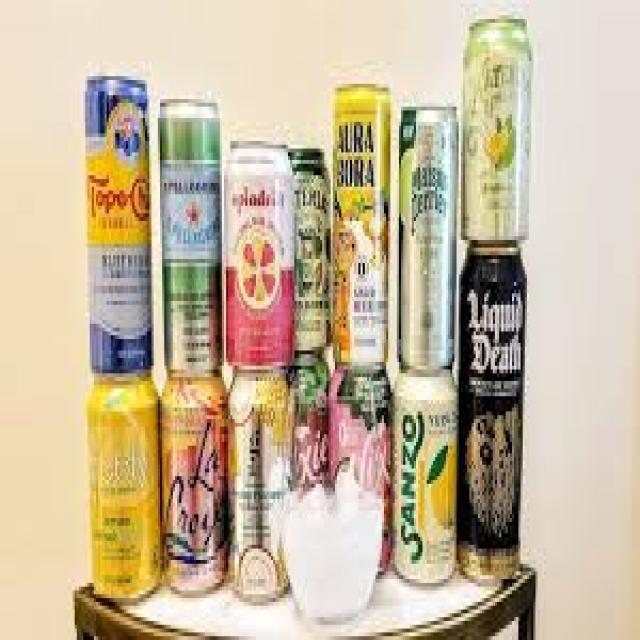Cans: (454, 236, 538, 579), (79, 57, 156, 377), (393, 92, 465, 370), (156, 84, 226, 369), (328, 76, 394, 370), (84, 370, 166, 606), (220, 133, 301, 366), (460, 4, 538, 244), (386, 366, 461, 586), (162, 370, 233, 598)
